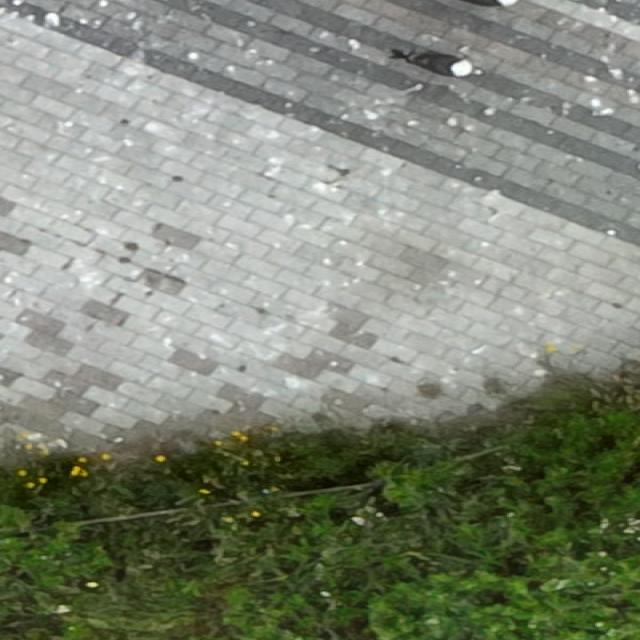umineko: (413, 53, 467, 74)
